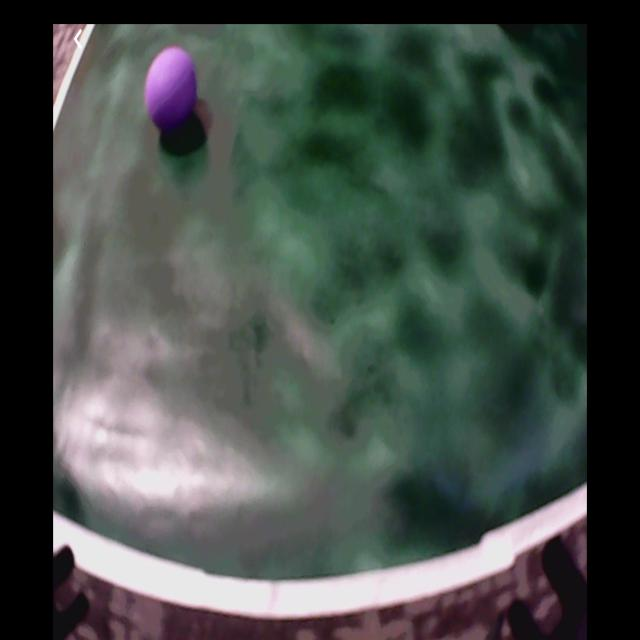ball: (142, 47, 198, 126)
